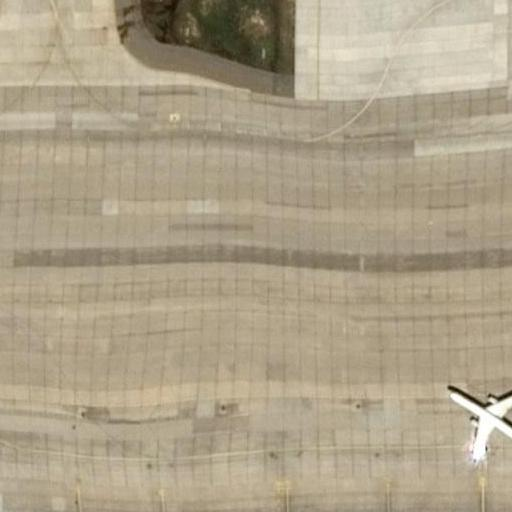Aircraft: (433, 373, 512, 468)
